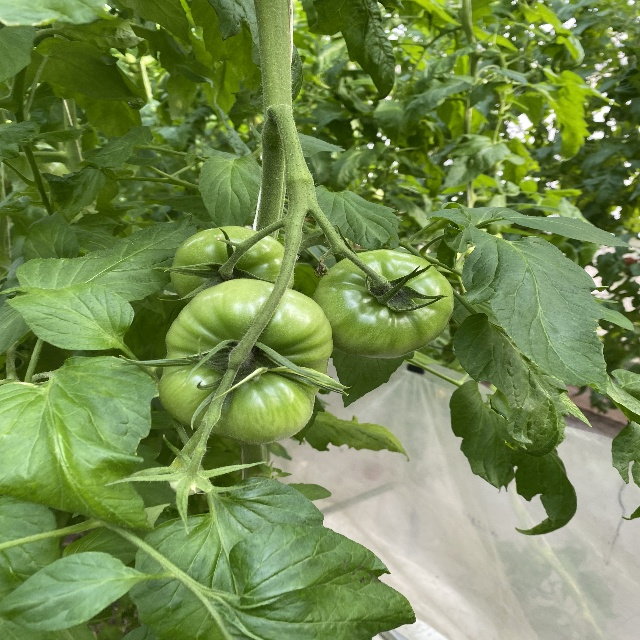b_green: (158, 278, 334, 444), (312, 249, 454, 360), (171, 225, 295, 304)
